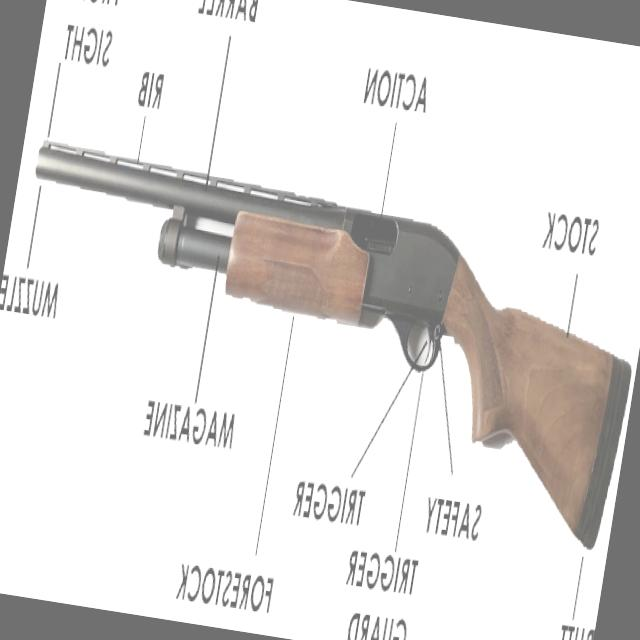shotgun: (0, 99, 640, 581)
